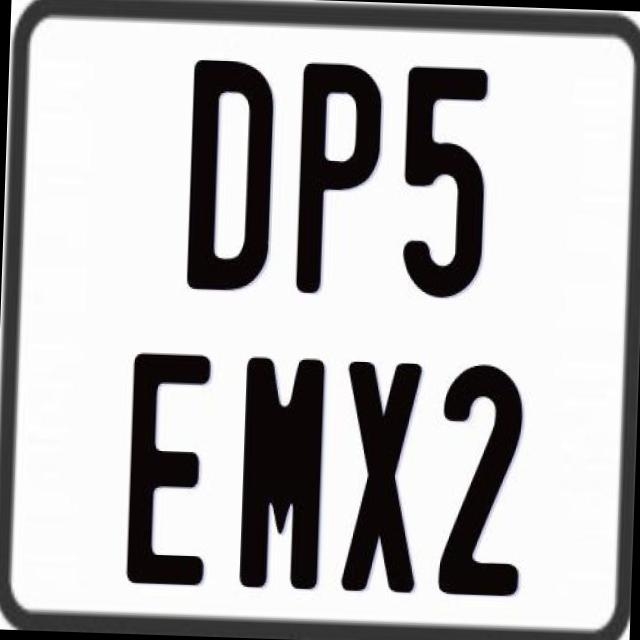2: (437, 363, 528, 603)
5: (397, 62, 485, 304)
D: (184, 55, 276, 296)
E: (125, 349, 213, 587)
M: (238, 356, 329, 592)
P: (292, 61, 379, 296)
X: (341, 357, 424, 590)
